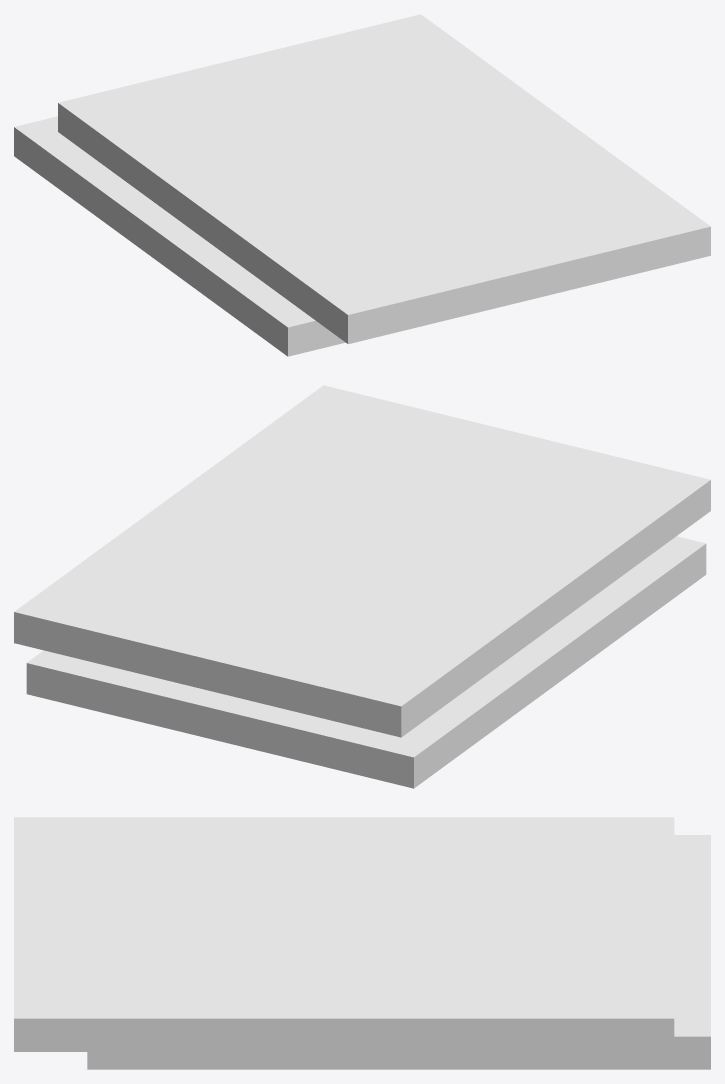
Rendered from fogli.gltf.
The picture shows the model from 3 angles, top to bottom: view 1: azimuth 30°, elevation 25°; view 2: azimuth 150°, elevation 25°; view 3: azimuth 270°, elevation 25°; orthographic projection. The views are drawn at different scales.
Visible parts, largest first — view 1: Layer.2, Layer.1; view 2: Layer.2, Layer.1; view 3: Layer.2, Layer.1.
Part boxes in pixels (x1,y1,x2,y2): Layer.2: (58, 14, 710, 344); Layer.1: (14, 116, 345, 356); Layer.2: (14, 385, 710, 737); Layer.1: (26, 536, 706, 788); Layer.2: (14, 817, 674, 1051); Layer.1: (87, 835, 710, 1069).
Bounding box in the file's own units: 14 × 2 × 19.
Materials: 1 (1 with a texture image).
